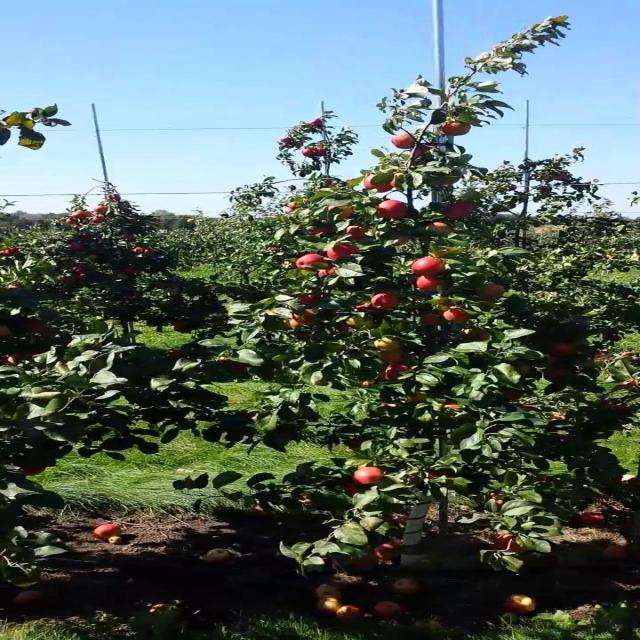apple: (376, 200, 411, 220), (412, 260, 448, 276), (355, 468, 386, 486), (497, 536, 528, 553), (390, 132, 418, 150), (298, 256, 329, 272), (383, 364, 412, 381), (333, 244, 363, 260), (326, 204, 356, 220), (447, 204, 476, 220), (461, 328, 491, 343), (369, 176, 396, 192), (582, 508, 604, 527), (604, 400, 631, 415), (419, 276, 443, 292), (447, 308, 471, 323), (440, 124, 469, 136), (376, 340, 404, 352), (483, 284, 505, 299), (426, 224, 453, 235), (547, 368, 565, 384), (376, 296, 398, 309), (511, 364, 533, 377), (490, 492, 508, 507), (554, 344, 576, 356), (383, 352, 405, 364), (298, 296, 320, 307), (348, 228, 368, 240), (348, 316, 368, 328), (298, 312, 316, 325), (419, 316, 441, 326), (412, 148, 434, 158), (319, 268, 340, 278), (618, 380, 639, 390), (348, 484, 364, 497), (28, 324, 50, 333), (440, 404, 462, 413), (348, 484, 363, 497), (20, 468, 44, 476), (6, 356, 23, 367), (440, 404, 462, 412), (312, 228, 334, 236), (504, 392, 524, 400), (426, 472, 446, 480), (355, 304, 375, 312), (547, 412, 567, 420), (170, 352, 192, 359), (348, 440, 363, 450), (340, 324, 356, 333), (518, 404, 535, 412), (284, 320, 299, 329), (390, 240, 409, 247), (234, 364, 251, 371), (291, 316, 300, 328), (413, 396, 427, 403), (383, 404, 398, 409), (397, 240, 407, 244)
